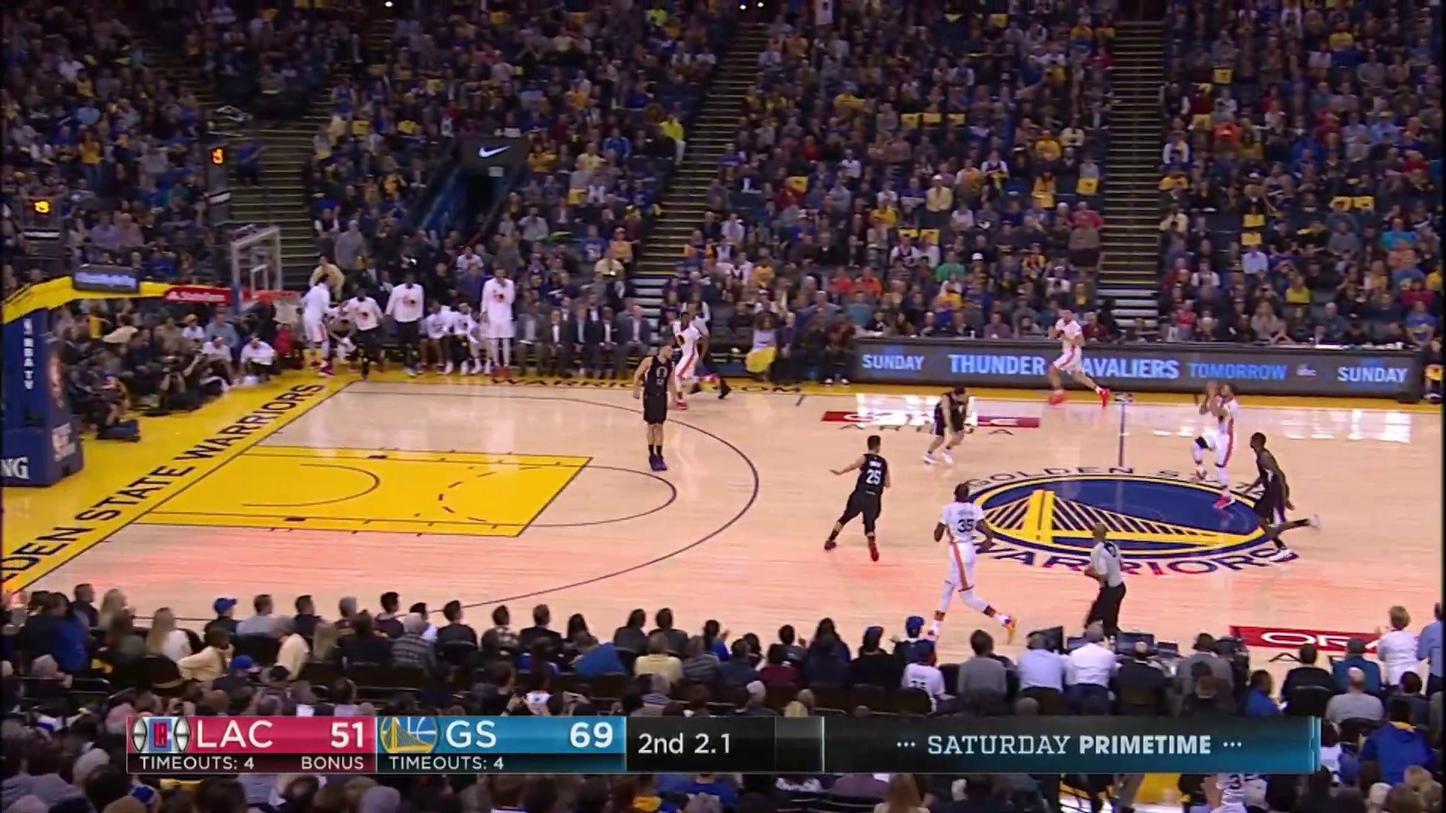basket_hoop: (199, 217, 322, 346)
